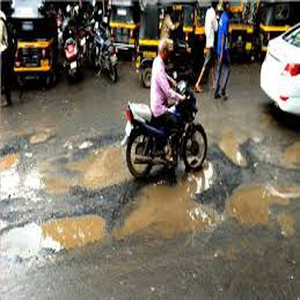pothole: (121, 167, 221, 248), (3, 209, 108, 253), (225, 179, 299, 227)
